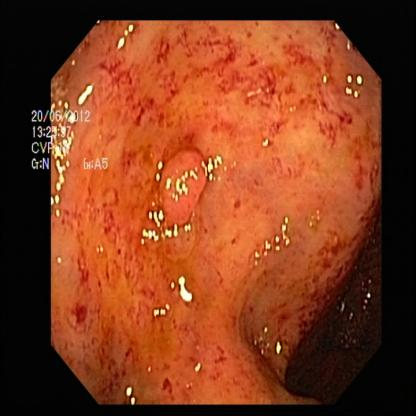Labels: (27, 102, 113, 185)
Polyps: (155, 137, 213, 236)
